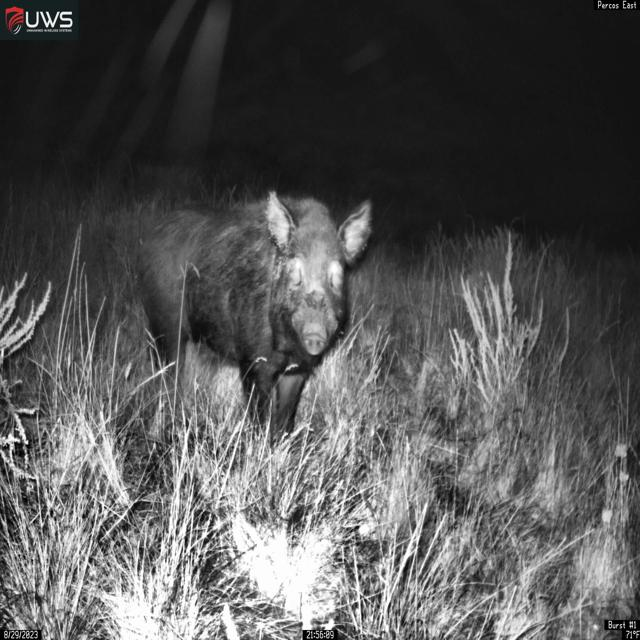pig: (134, 189, 374, 447)
